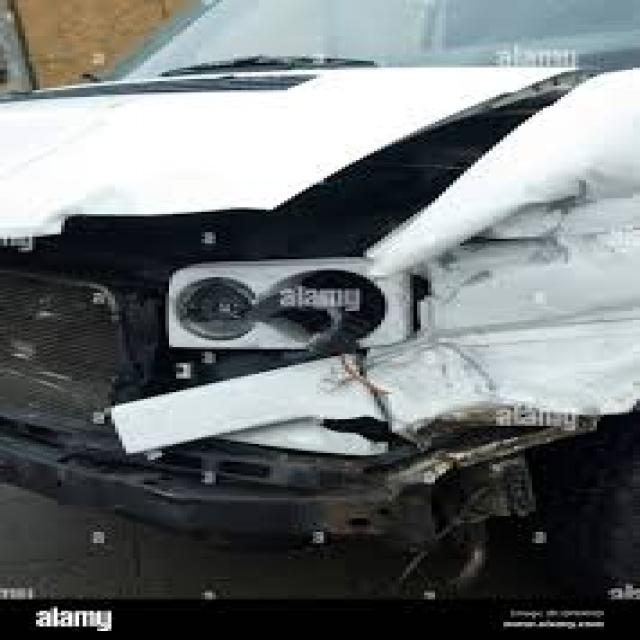severe: (60, 91, 640, 507)
